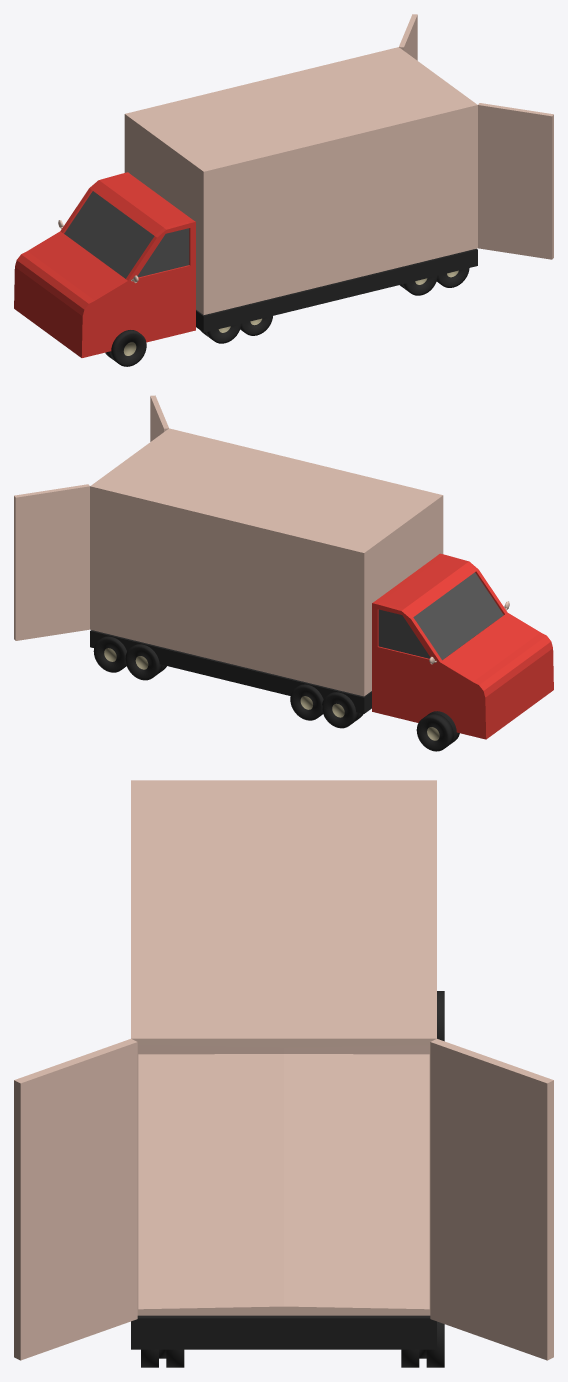
The model's file is Truck.fbx.
The picture shows the model from 3 angles, top to bottom: view 1: azimuth 30°, elevation 25°; view 2: azimuth 150°, elevation 25°; view 3: azimuth 270°, elevation 25°; orthographic projection. The views are drawn at different scales.
Visible parts, largest first — view 1: Truck; view 2: Truck; view 3: Truck.
Part boxes in pixels (x1=…): Truck: x1=14, y1=14, x2=553, y2=366; Truck: x1=14, y1=395, x2=553, y2=751; Truck: x1=14, y1=780, x2=553, y2=1367.
Size of the model in its own units: 5818 by 2275 by 3215.
